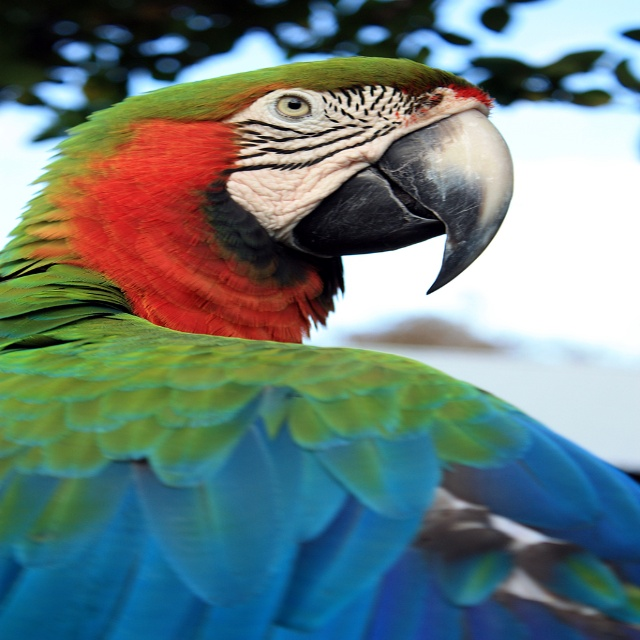Parrot: (0, 56, 639, 640)
